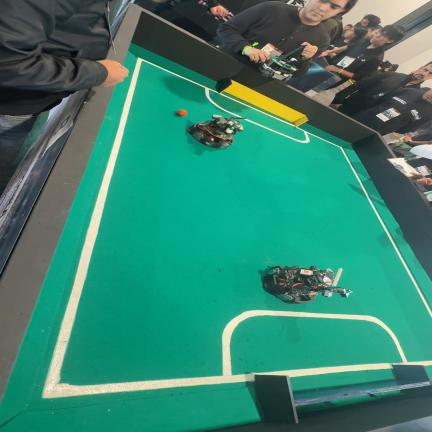cancha: (0, 44, 432, 432)
limites: (42, 58, 432, 398), (246, 120, 432, 317), (222, 94, 294, 127), (264, 363, 390, 376)
pelota: (176, 110, 187, 116)
porteria: (254, 364, 432, 424), (216, 79, 308, 127)
robot: (262, 266, 352, 304), (187, 115, 245, 149), (261, 53, 297, 77)
